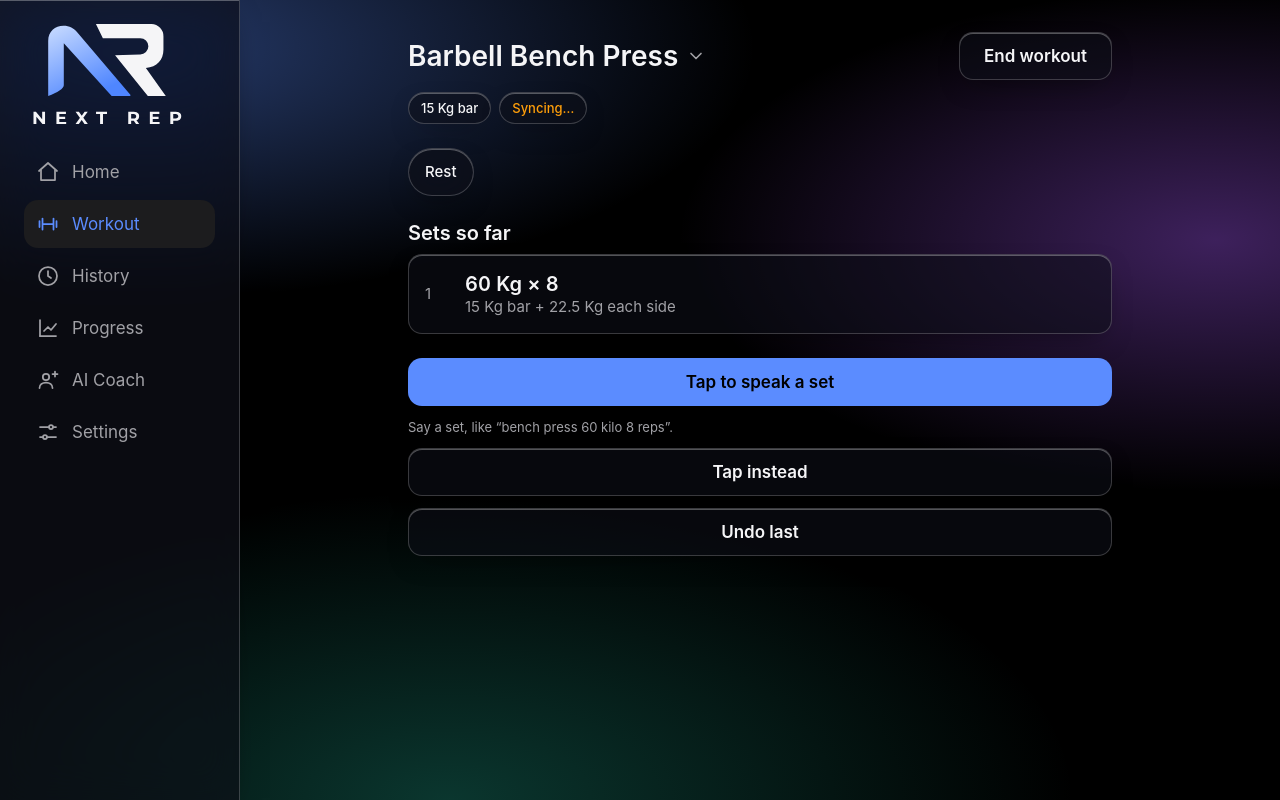
undoing the last set › keeps the set and says so when the server refuses
Step 1. Click the button "Undo last" → {"x": 760, "y": 532}, box [408,508,1112,556]
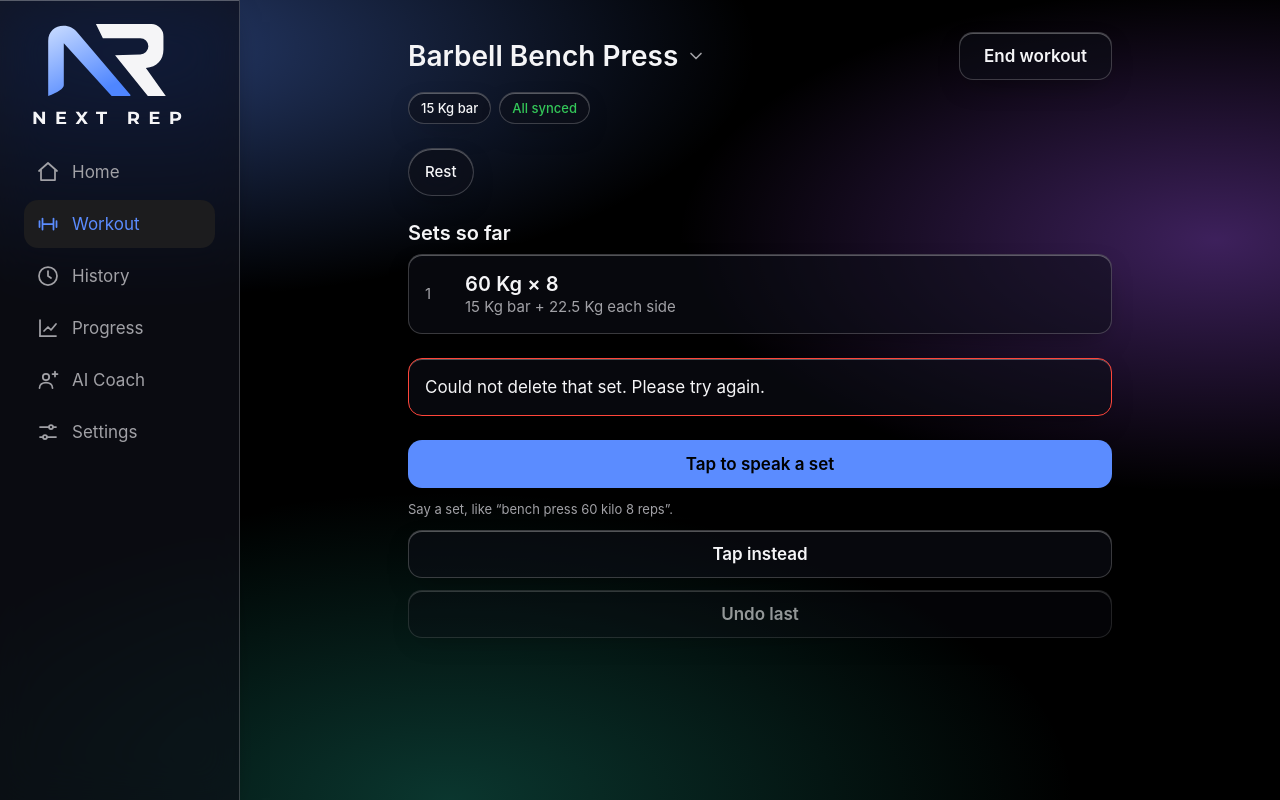
Now the message "Could not delete that set. Please try again." is shown, box [408,358,1112,416]
